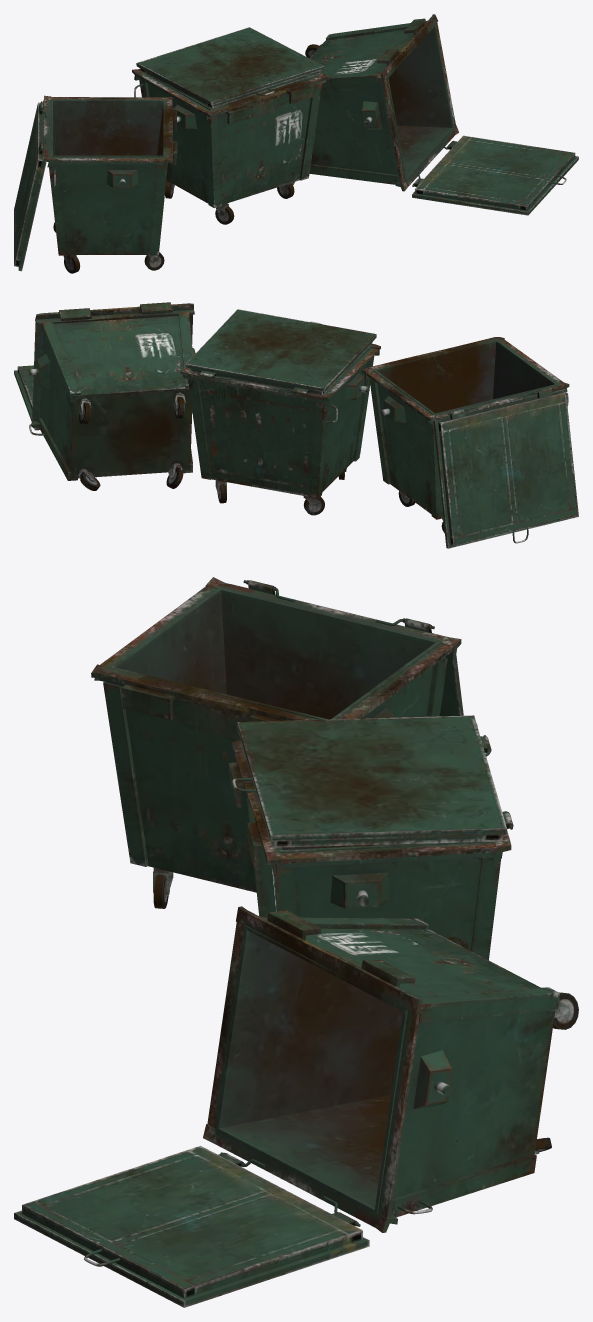
The model's file is trash_can.glb.
3 views of the same model, one above another, from view 1: azimuth 30°, elevation 25°; view 2: azimuth 150°, elevation 25°; view 3: azimuth 270°, elevation 25° (orthographic). The views are drawn at different scales.
Parts seen in each view (by area): view 1: trash_can_finish (×2), trash_can_finish1, cap (×2), cap1; view 2: trash_can_finish (×2), cap (×2), trash_can_finish1, cap1, wheel_3, wheel_5; view 3: trash_can_finish1, trash_can_finish (×2), cap (×2), cap1.
Part boxes in pixels (left/top/right/bottom): trash_can_finish (×2): left=41, top=68, right=329, bottom=255; trash_can_finish1: left=309, top=14, right=458, bottom=191; cap (×2): left=14, top=27, right=324, bottom=271; cap1: left=412, top=135, right=578, bottom=215; trash_can_finish (×2): left=180, top=337, right=569, bottom=519; cap (×2): left=185, top=309, right=578, bottom=548; trash_can_finish1: left=29, top=302, right=195, bottom=480; cap1: left=14, top=365, right=39, bottom=430; wheel_3: left=303, top=496, right=324, bottom=515; wheel_5: left=166, top=463, right=183, bottom=488; trash_can_finish1: left=203, top=906, right=560, bottom=1232; trash_can_finish (×2): left=91, top=577, right=512, bottom=960; cap (×2): left=231, top=580, right=513, bottom=847; cap1: left=14, top=1145, right=369, bottom=1307.
Size of the model in its own units: 5.55 by 1.35 by 2.59.
Materials: 1 (1 with a texture image).
